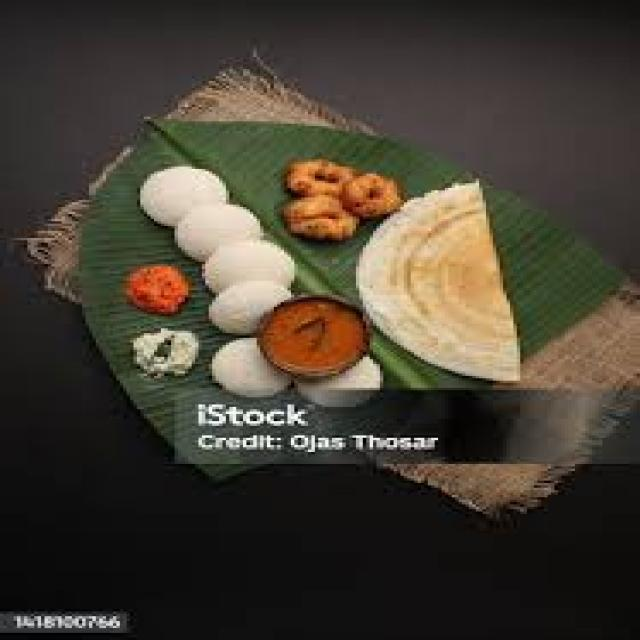DOSA: (359, 181, 517, 378)
IDLI: (140, 167, 226, 226), (202, 240, 291, 293), (175, 205, 260, 259), (209, 281, 291, 333), (212, 338, 287, 393)
MEDU VADA: (281, 159, 400, 240)
